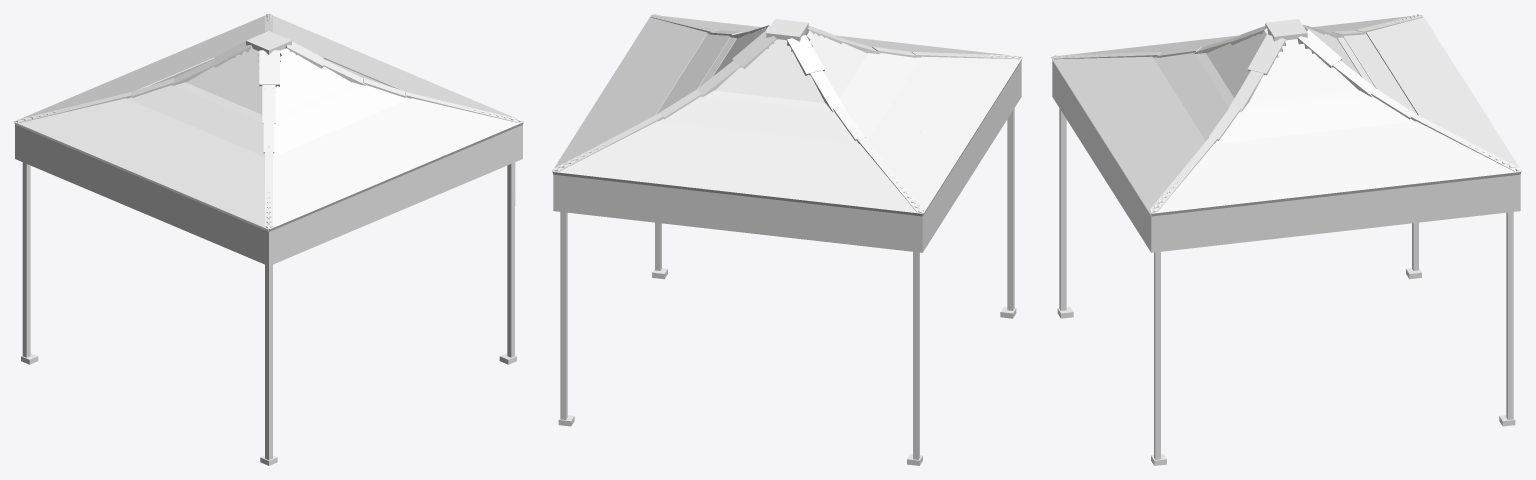
File: tent_blue_baituan_y15.obj
3 views of the same model, side by side, from view 1: azimuth 30°, elevation 25°; view 2: azimuth 150°, elevation 25°; view 3: azimuth 270°, elevation 25° (orthographic). The views are drawn at different scales.
Parts seen in each view (by area): view 1: text2, text3, cube1.005, cube1.004, stem1, stem4, stem3, cube2.004, cube2.005, cube3.004, cube3.005, cube4.004 (+43 smaller); view 2: text1, text2, cube1.003, cube2.003, stem2, cube3.003, cube4.003, stem3, cube5, cube6, stem1, cube7 (+61 smaller); view 3: text0, text3, cube1.006, cube2.006, stem2, cube3.006, cube4.006, stem3, cube5.002, cube6.002, stem4, cube7.002 (+61 smaller).
Part boxes in pixels (<box>): text2: <box>15,125,272,265</box>; text3: <box>273,126,518,264</box>; cube1.005: <box>14,119,272,233</box>; cube1.004: <box>266,119,523,233</box>; stem1: <box>22,162,30,357</box>; stem4: <box>507,162,515,357</box>; stem3: <box>265,264,272,459</box>; cube2.004: <box>266,117,515,224</box>; cube2.005: <box>22,117,271,224</box>; cube3.004: <box>266,116,508,219</box>; cube3.005: <box>29,116,271,219</box>; cube4.004: <box>267,114,500,214</box>; text1: <box>559,175,916,252</box>; text2: <box>917,62,1021,252</box>; cube1.003: <box>553,168,923,216</box>; cube2.003: <box>560,164,919,208</box>; stem2: <box>560,212,567,419</box>; cube3.003: <box>567,161,915,204</box>; cube4.003: <box>574,158,911,199</box>; stem3: <box>1007,108,1014,310</box>; cube5: <box>581,154,906,194</box>; cube6: <box>588,151,902,189</box>; stem1: <box>913,252,919,459</box>; cube7: <box>596,147,898,185</box>; text0: <box>1149,175,1520,252</box>; text3: <box>1053,63,1149,249</box>; cube1.006: <box>1150,168,1520,216</box>; cube2.006: <box>1154,164,1513,208</box>; stem2: <box>1506,212,1513,419</box>; cube3.006: <box>1158,161,1506,204</box>; cube4.006: <box>1162,158,1499,199</box>; stem3: <box>1059,108,1066,310</box>; cube5.002: <box>1167,154,1492,194</box>; cube6.002: <box>1171,151,1485,189</box>; stem4: <box>1154,252,1160,459</box>; cube7.002: <box>1175,147,1477,185</box>.
Size of the model in its own units: 4.57 by 3.66 by 4.57.
